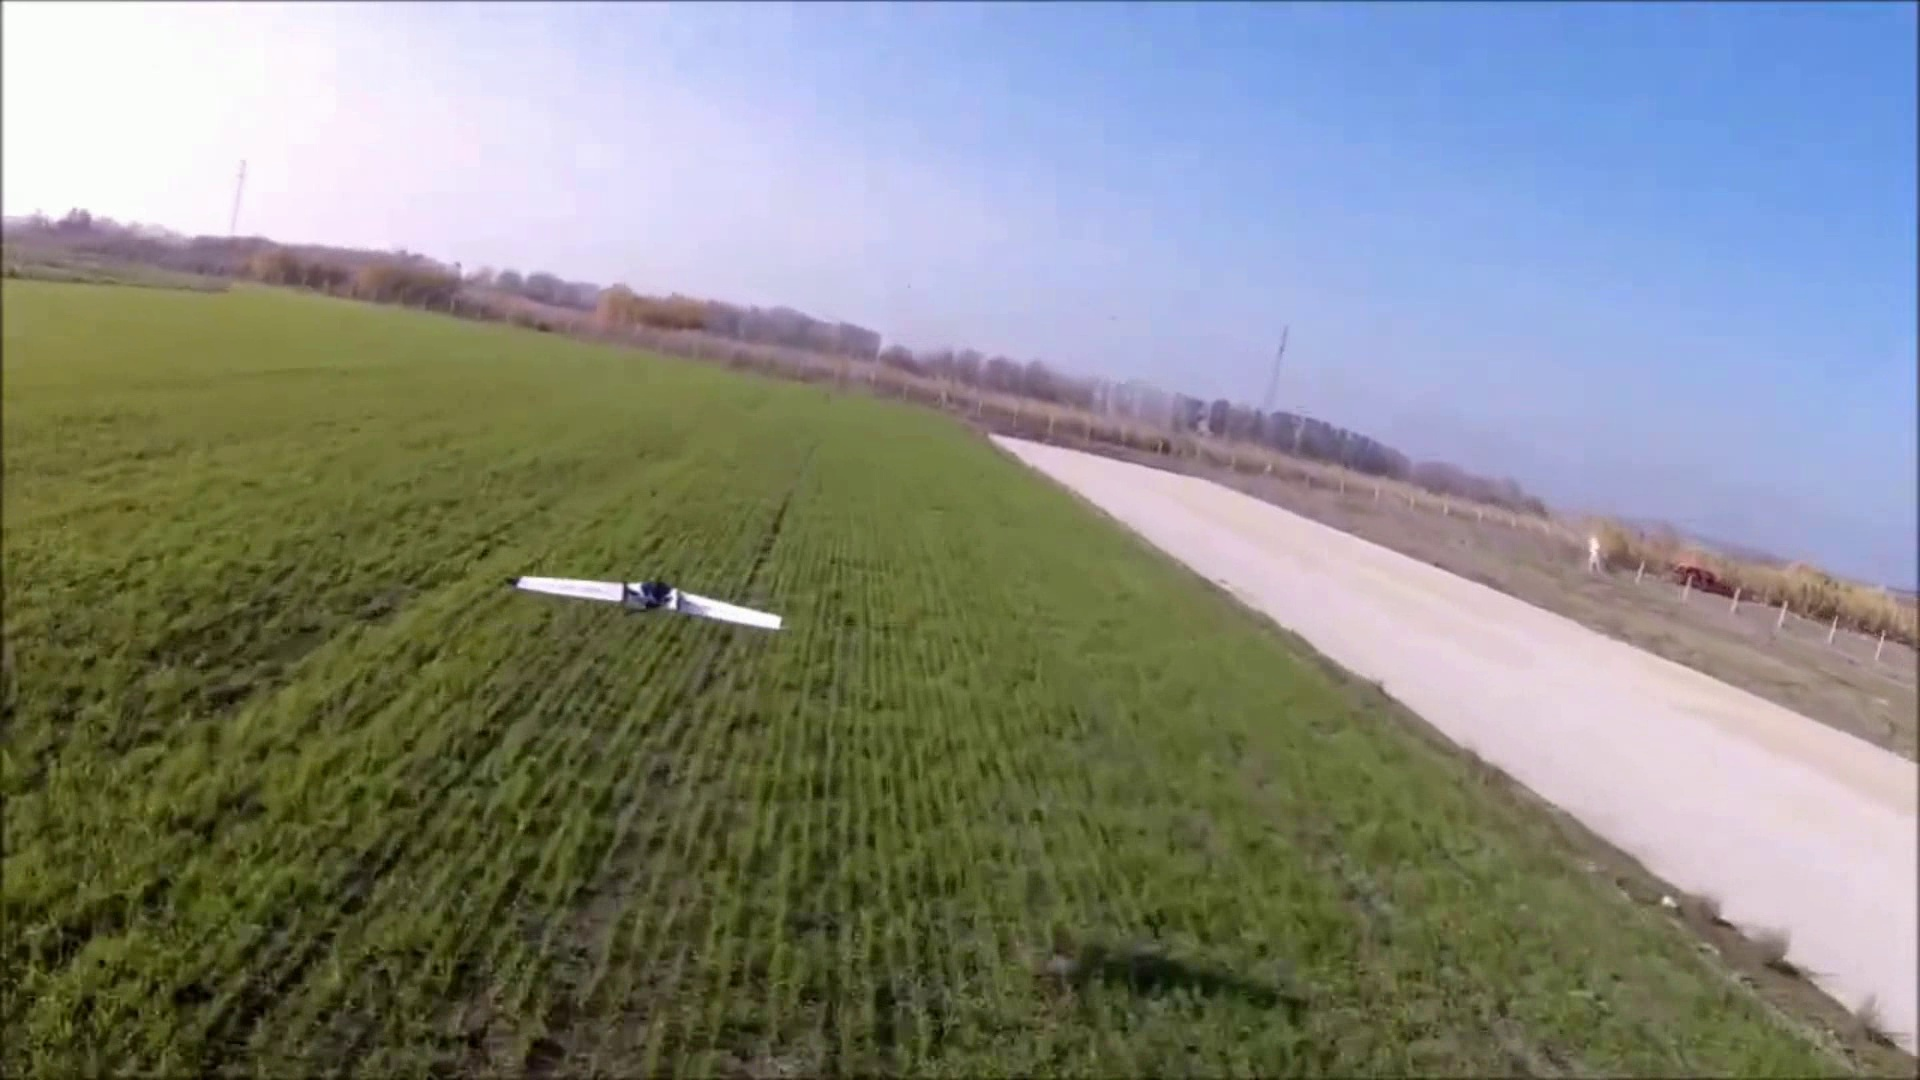airplane: (508, 574, 783, 637)
